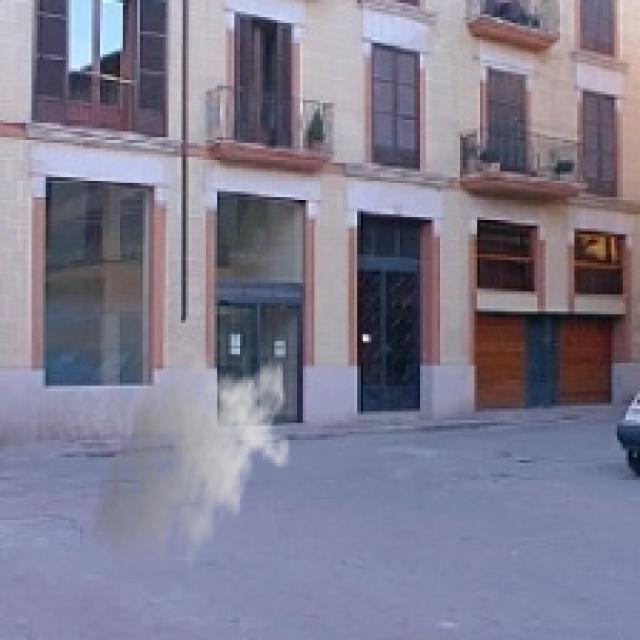Smoke: (91, 348, 292, 583)
